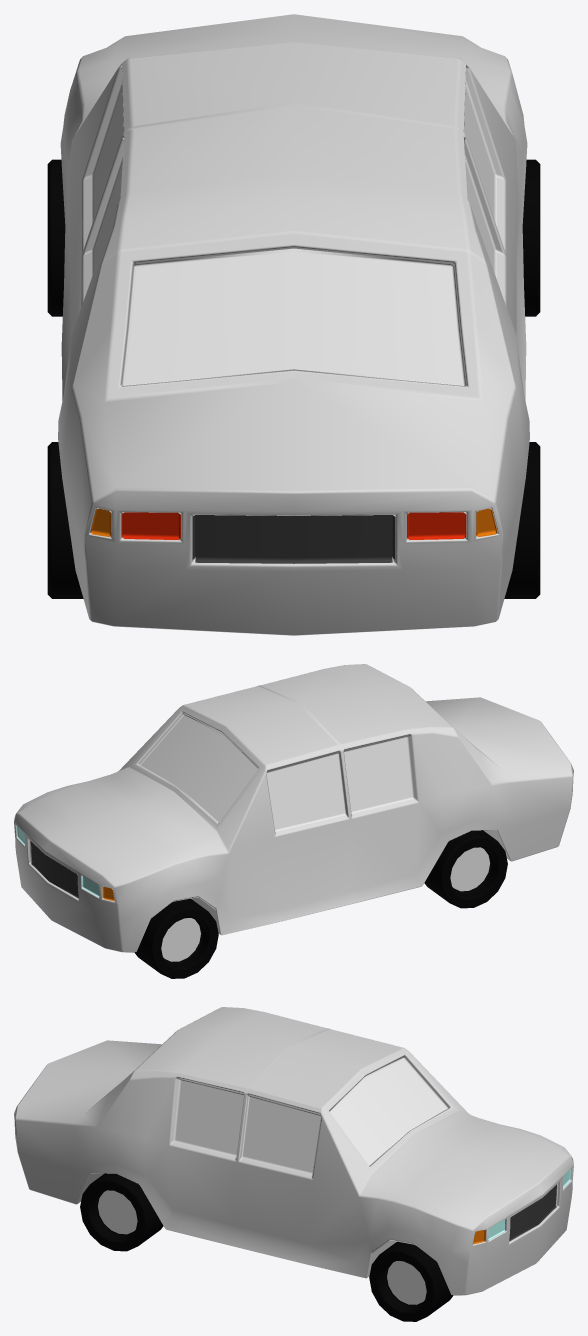
The model's file is White-Car.fbx.
The picture shows the model from 3 angles, top to bottom: view 1: azimuth 30°, elevation 25°; view 2: azimuth 150°, elevation 25°; view 3: azimuth 270°, elevation 25°; orthographic projection. The views are drawn at different scales.
Parts seen in each view (by area): view 1: Cylinder.076; view 2: Cylinder.076; view 3: Cylinder.076.
Part boxes in pixels (x1,y1,x2,y2): Cylinder.076: [47, 14, 540, 635]; Cylinder.076: [14, 664, 573, 978]; Cylinder.076: [14, 1007, 573, 1321].
Bounding box in the file's own units: 283 × 132 × 356.
